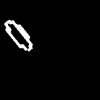chain: (5, 20, 31, 50)
